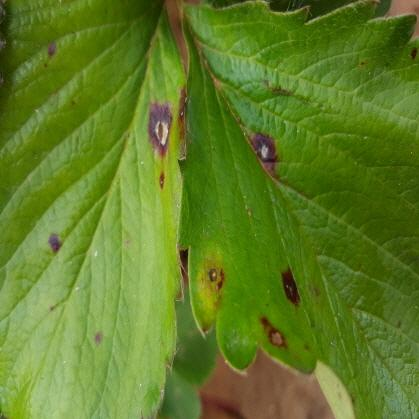Leaf Spot: (178, 0, 418, 418), (0, 0, 186, 418)
